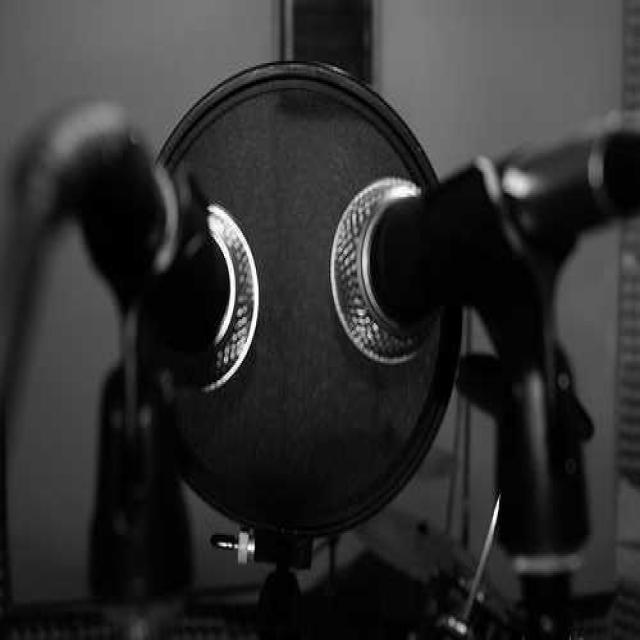microphone: (61, 92, 258, 392), (376, 116, 640, 326)
